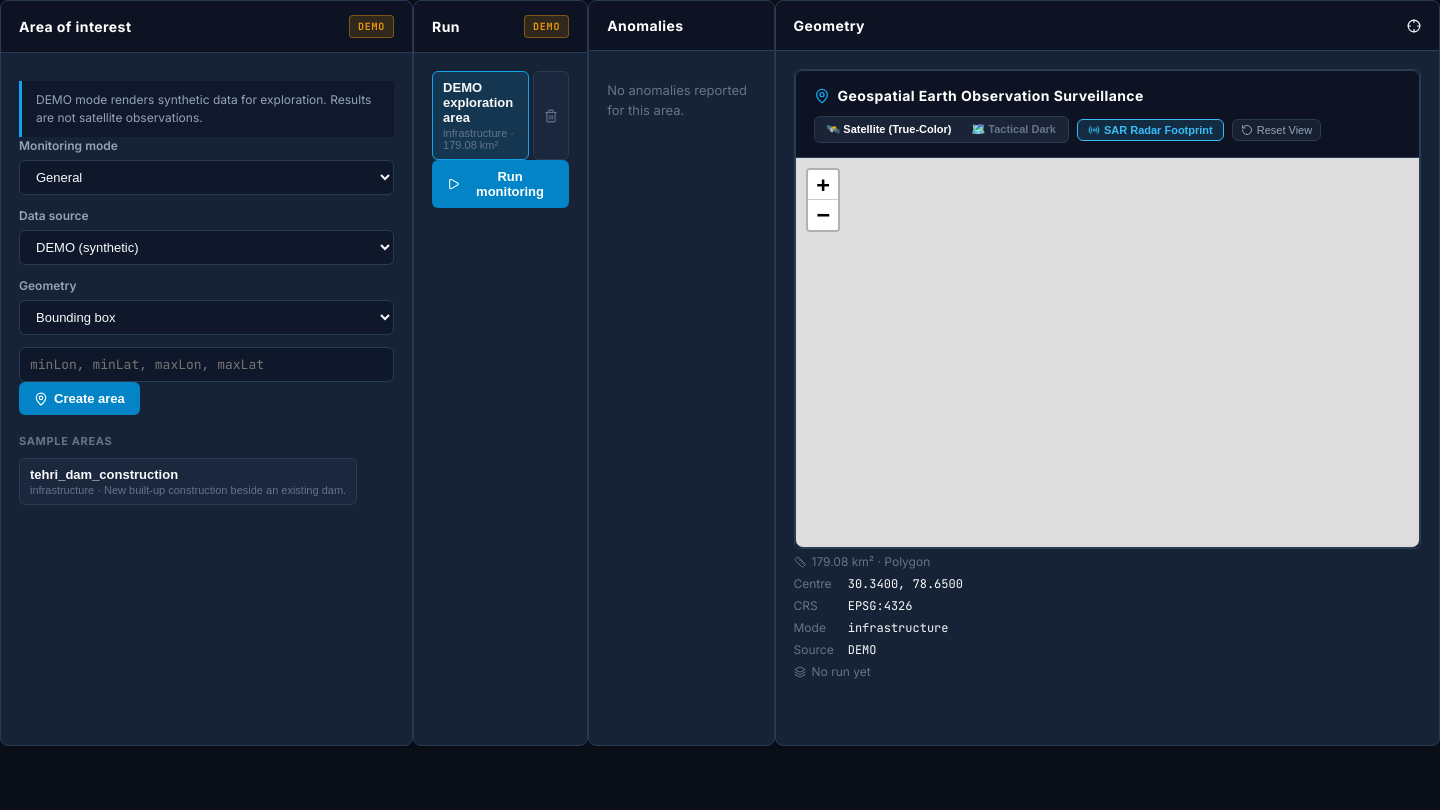
Test: AoiMonitoringView › shows job progress while a run is in flight
The width and height of the screenshot is (1440, 810).
Click the button "Run monitoring" at (501, 184), box [432, 160, 569, 208]
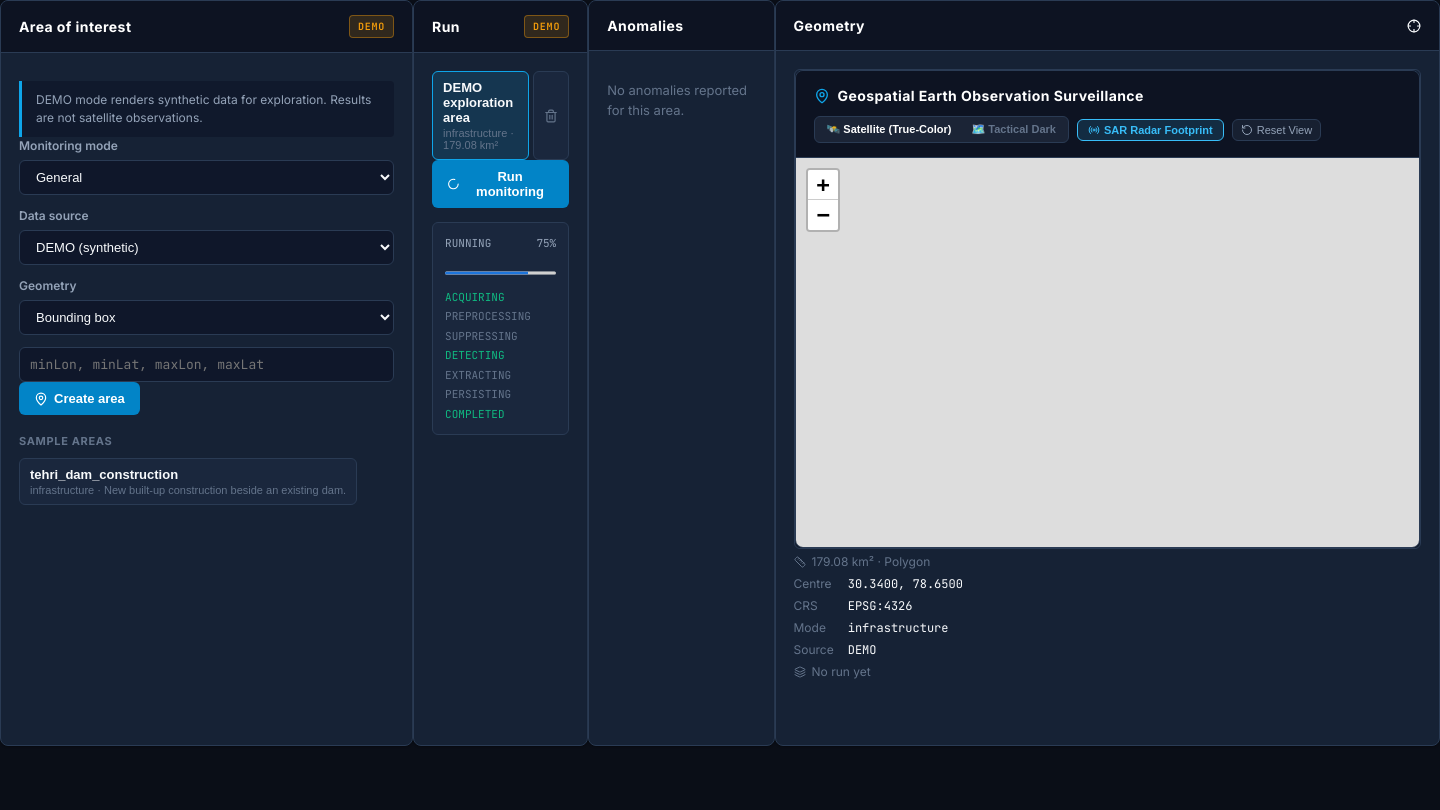
Now the text "RUNNING" is shown, box [445, 235, 491, 252]
Now the text "75%" is shown, box [536, 235, 556, 252]
Now the list item with class "is-reached" showing "ACQUIRING" is shown, box [445, 290, 504, 304]
